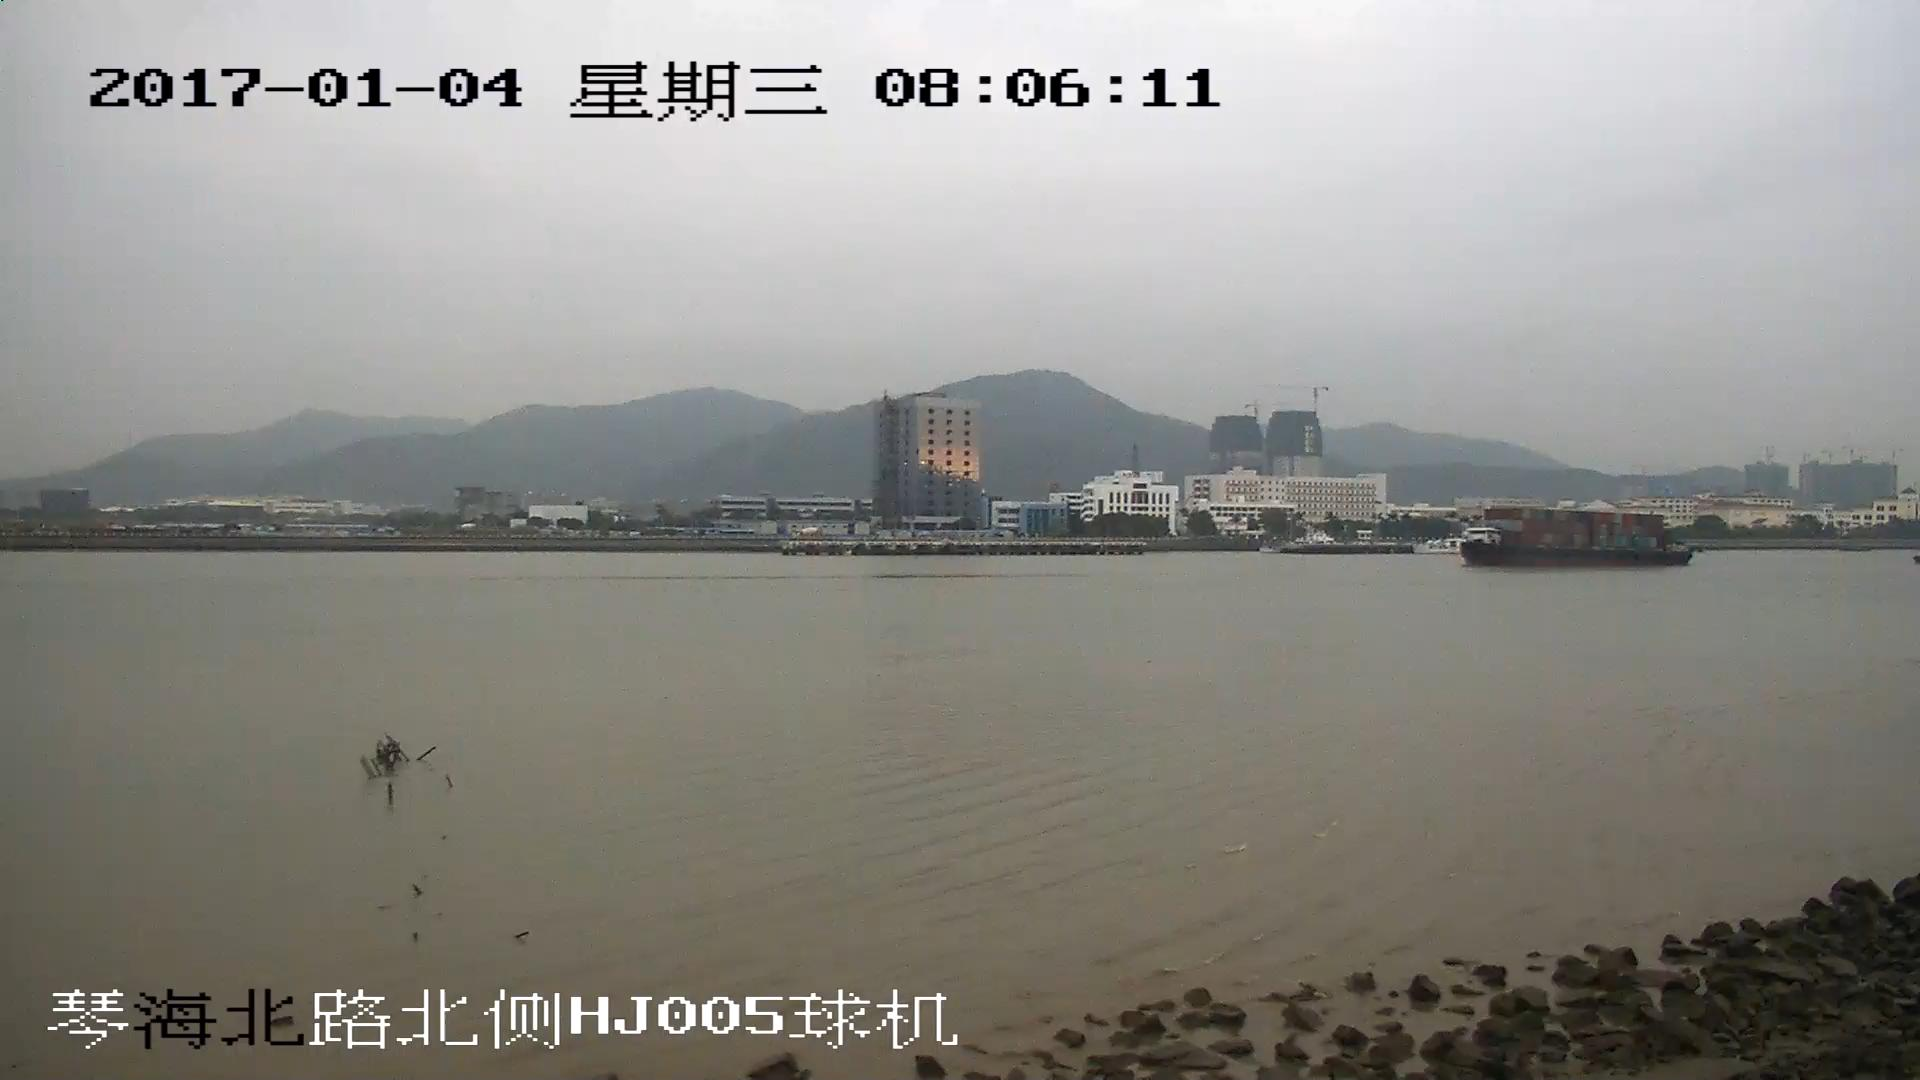container ship: (1461, 507, 1689, 565)
